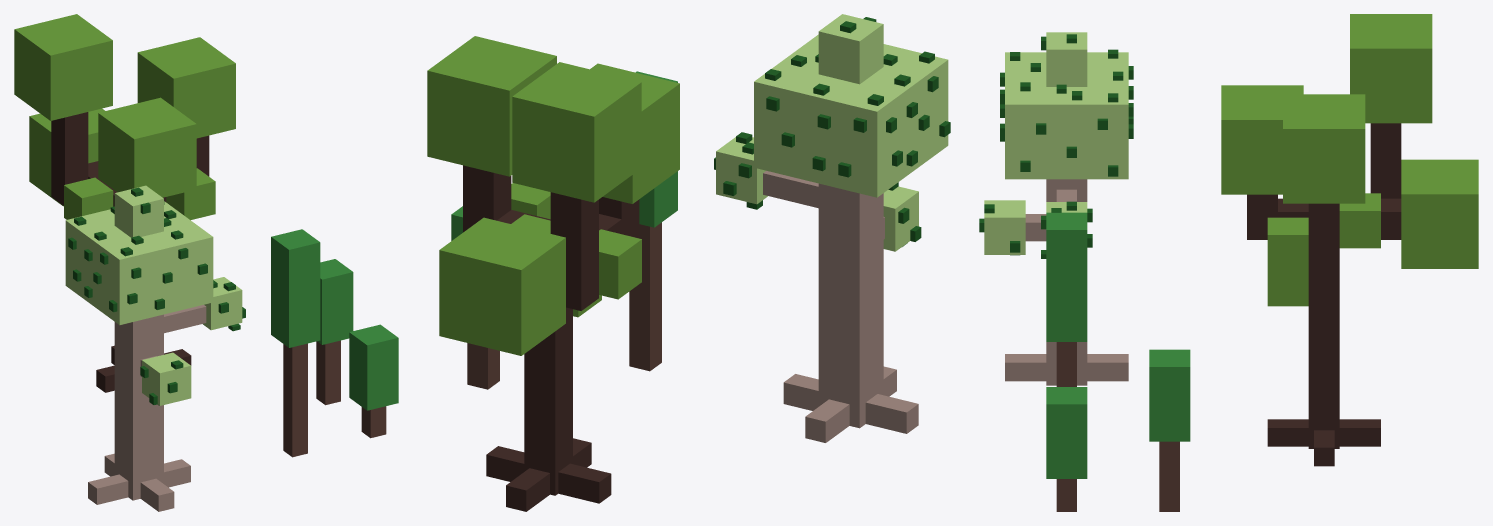
Rendered from Plants-4-Tree Group 2.obj.
3 views of the same model, side by side, from view 1: azimuth 30°, elevation 25°; view 2: azimuth 150°, elevation 25°; view 3: azimuth 270°, elevation 25° (orthographic). The views are drawn at different scales.
Visible parts, largest first — view 1: Tree Group 2; view 2: Tree Group 2; view 3: Tree Group 2.
Boxes of the visible parts, x1,y1,x2,y2 form: Tree Group 2: (14, 14, 398, 511); Tree Group 2: (427, 14, 950, 511); Tree Group 2: (979, 14, 1478, 511).
Size of the model in its own units: 7.7 by 8.2 by 9.7.
Materials: 1 (1 with a texture image).
